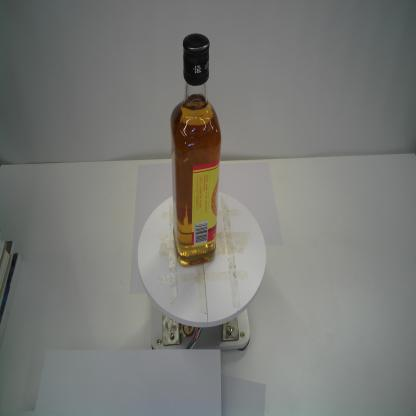Seasoner: (166, 31, 224, 268)
